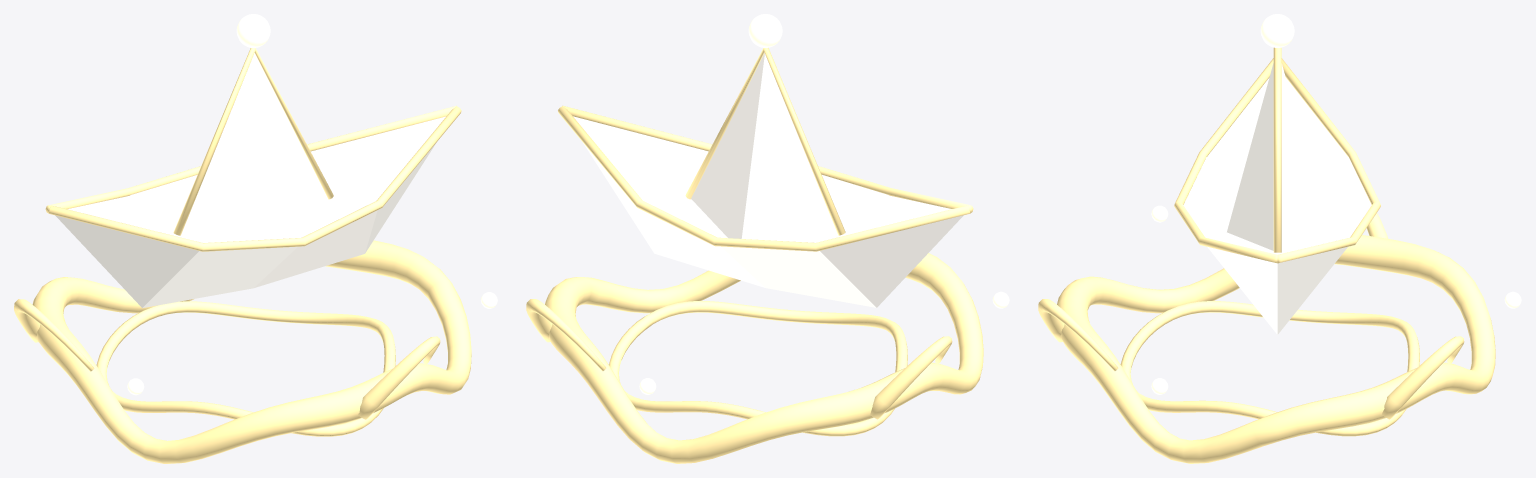
Rendered from comfort_sign_boat.glb.
3 views of the same model, side by side, from view 1: azimuth 30°, elevation 25°; view 2: azimuth 150°, elevation 25°; view 3: azimuth 270°, elevation 25° (orthographic).
Parts seen in each view (by area): view 1: BoatGoldenWaveAndTrim, BoatOrigamiPorcelain, BoatMastStar; view 2: BoatGoldenWaveAndTrim, BoatOrigamiPorcelain, BoatMastStar; view 3: BoatGoldenWaveAndTrim, BoatOrigamiPorcelain, BoatMastStar.
Boxes of the visible parts, bbox=[...] form: BoatGoldenWaveAndTrim: bbox=[14, 48, 471, 463]; BoatOrigamiPorcelain: bbox=[55, 53, 445, 307]; BoatMastStar: bbox=[127, 14, 497, 395]; BoatGoldenWaveAndTrim: bbox=[526, 48, 983, 463]; BoatOrigamiPorcelain: bbox=[573, 53, 963, 307]; BoatMastStar: bbox=[639, 14, 1009, 394]; BoatGoldenWaveAndTrim: bbox=[1038, 47, 1495, 463]; BoatOrigamiPorcelain: bbox=[1183, 63, 1371, 334]; BoatMastStar: bbox=[1151, 14, 1521, 394].
Size of the model in its own units: 0.8886 by 0.763 by 0.9032.
